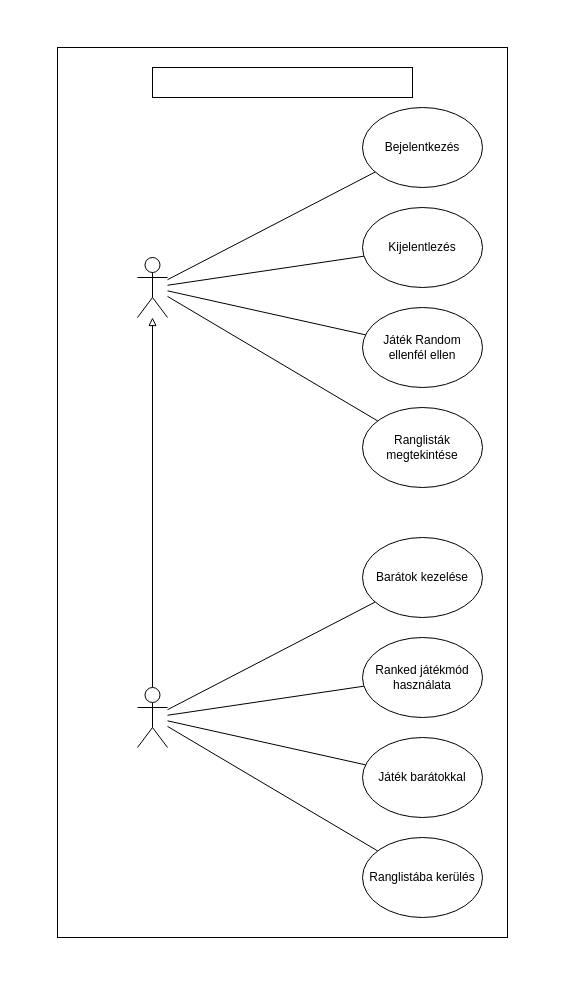
Image size: 564x984. Some labels were removed from this diagram. Each missing label, with the centre of its shape:
Be nem jelentkezett Felhasználó: the point at 152,287
Bejelentkezett Felhasználó: the point at 152,717
Bejelentkezett Felhasználó Use-Case diagram: the point at 282,82
